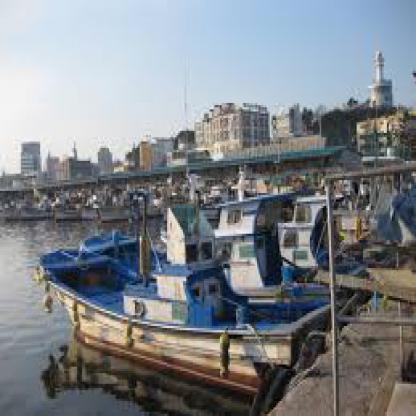fish-b: (26, 206, 355, 399)
